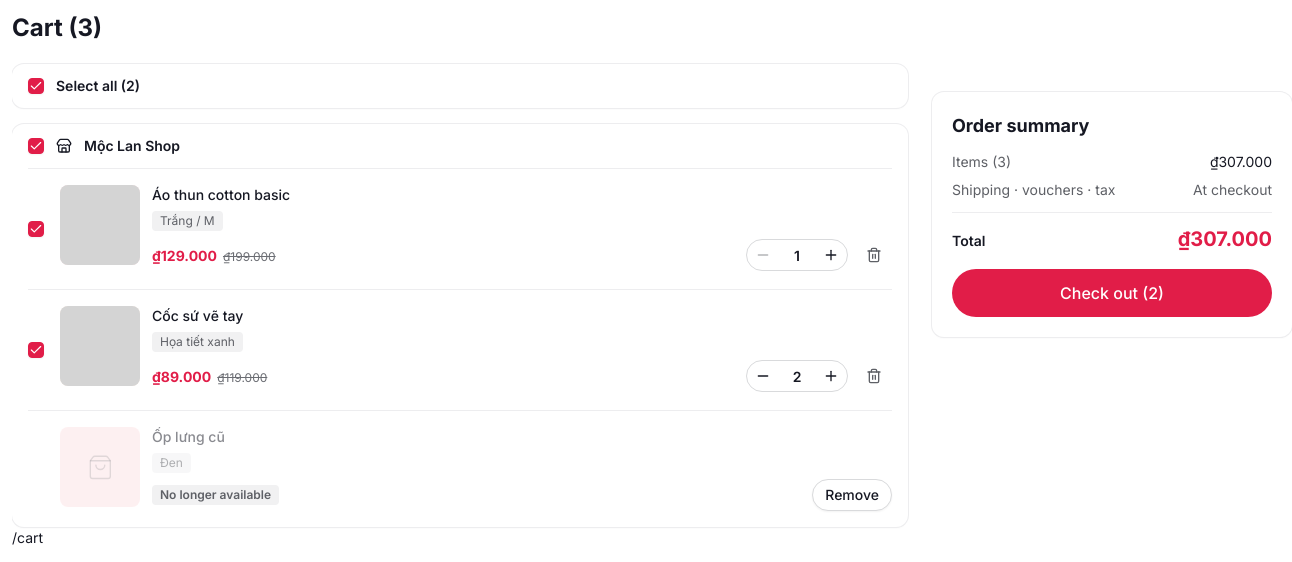
CartPage › selection › updates the summary when lines are unticked, and Select all toggles them
Click the checkbox named "Select Cốc sứ vẽ tay (Họa tiết xanh)".
click(36, 350)  # box [28, 342, 44, 358]
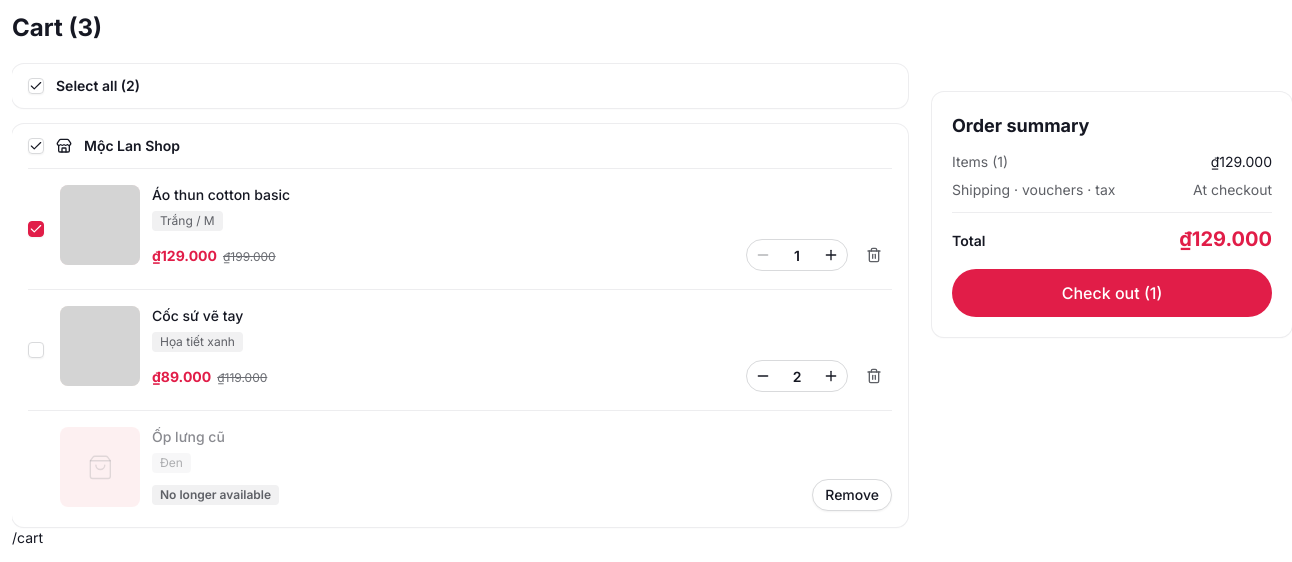
Result: the button "Check out (1)" is shown at [952, 269, 1272, 317]
Result: the text with test id "total" reads "₫129.000" at [1179, 227, 1272, 251]
Result: the text "Items (1)" is shown at [952, 152, 1008, 172]
Click the checkbox named "Select all (2)".
click(36, 86)  # box [28, 78, 44, 94]
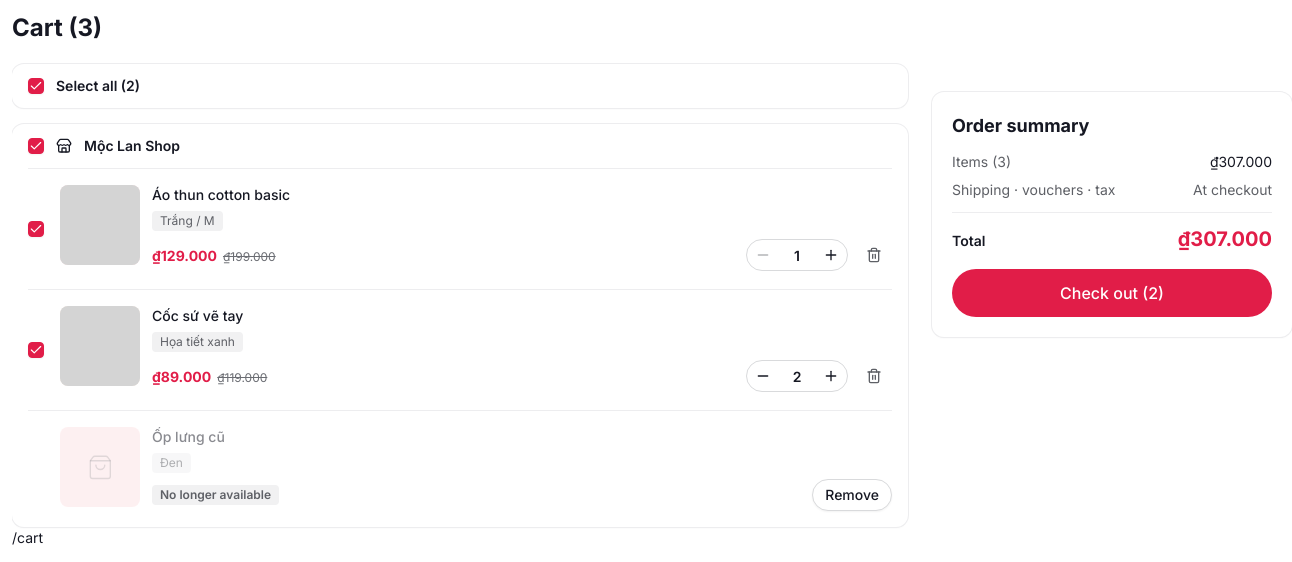
Result: the button "Check out (2)" is shown at [952, 269, 1272, 317]
Click the checkbox named "Select all (2)".
click(36, 86)  # box [28, 78, 44, 94]
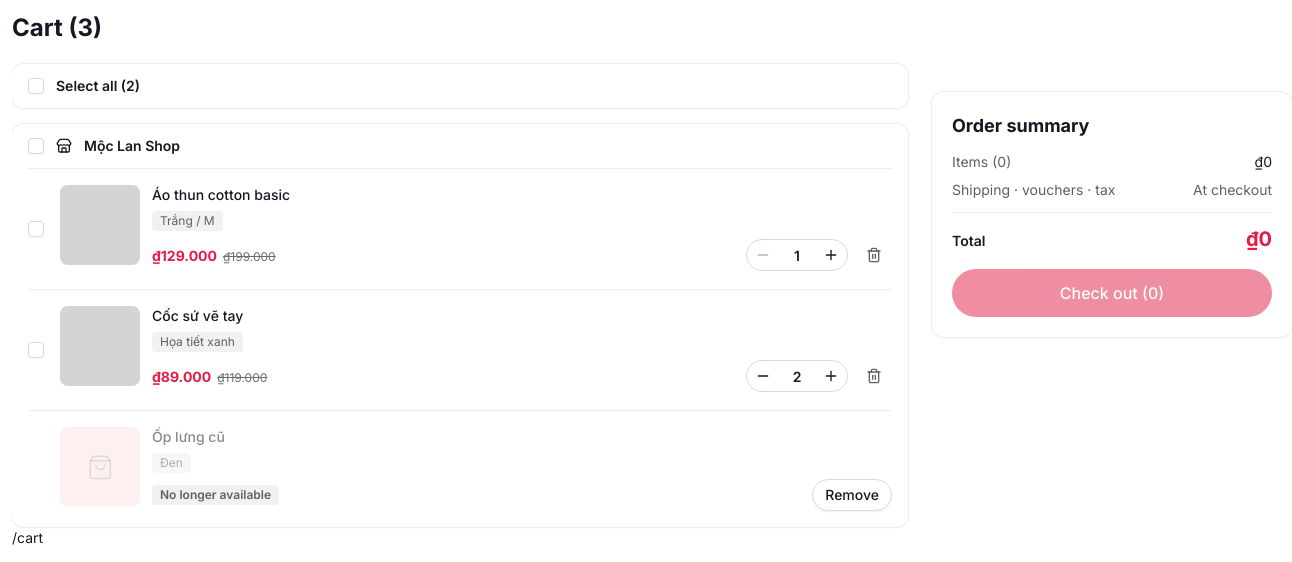
Result: the button "Check out (0)" is shown at [952, 269, 1272, 317]
Result: the button "Check out (0)" is disabled at [952, 269, 1272, 317]
